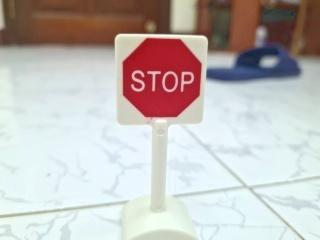stop: (109, 31, 212, 137)
